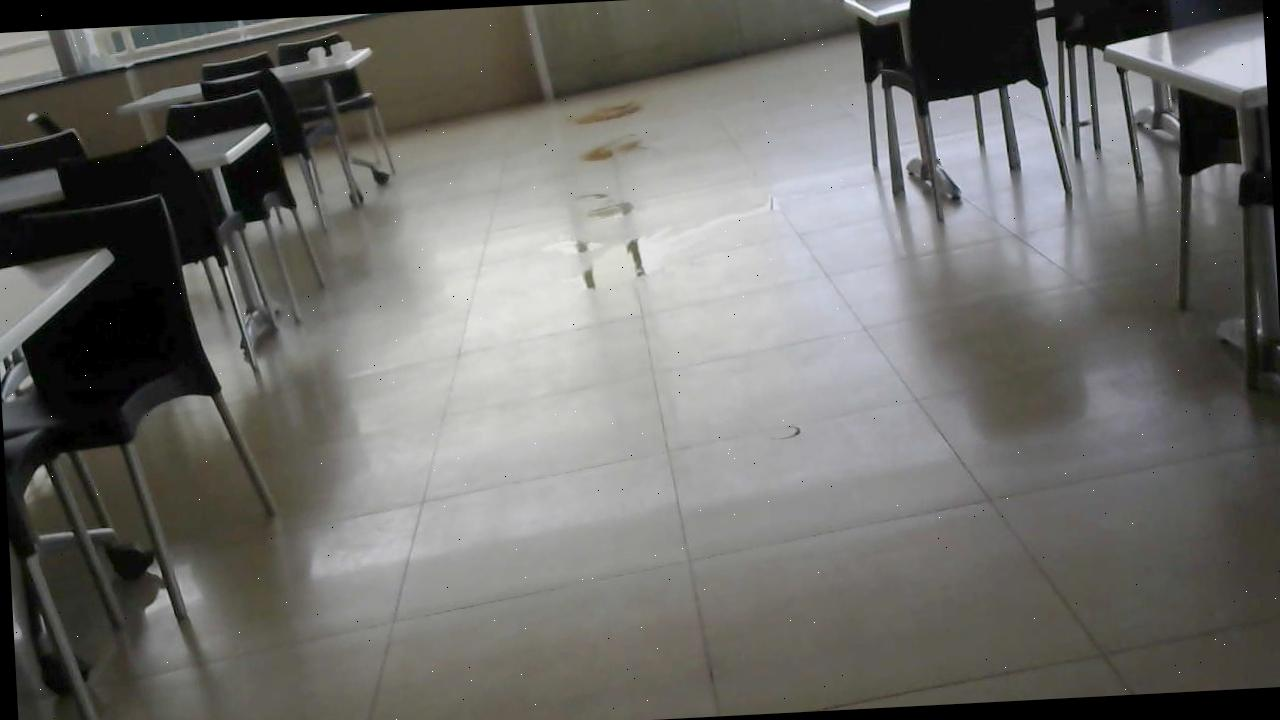dirty_floor: (530, 188, 800, 302), (571, 127, 654, 169), (564, 96, 646, 127)
